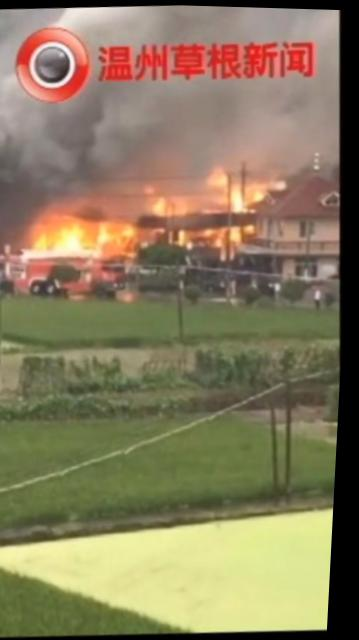fire: (24, 215, 101, 259), (98, 218, 139, 251), (211, 222, 244, 261), (148, 192, 178, 212), (205, 162, 230, 183), (226, 184, 245, 210)
